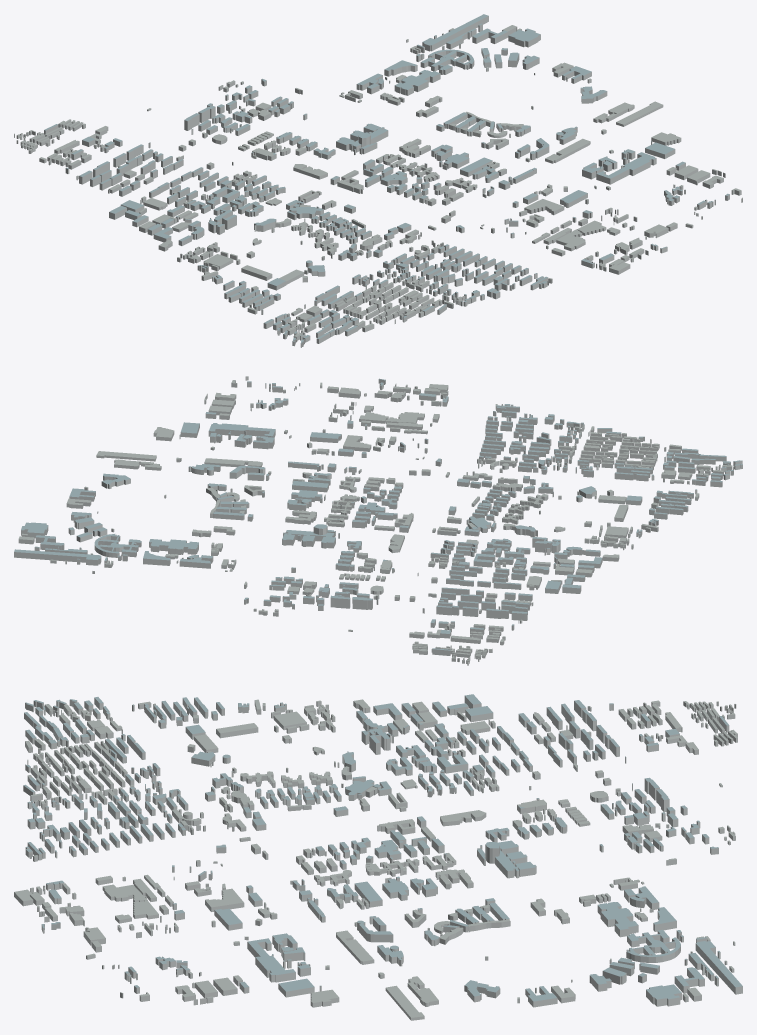
File: far.glb
The picture shows the model from 3 angles, top to bottom: view 1: azimuth 30°, elevation 25°; view 2: azimuth 150°, elevation 25°; view 3: azimuth 270°, elevation 25°; orthographic projection. The views are drawn at different scales.
Size of the model in its own units: 2232 by 50 by 2154.
